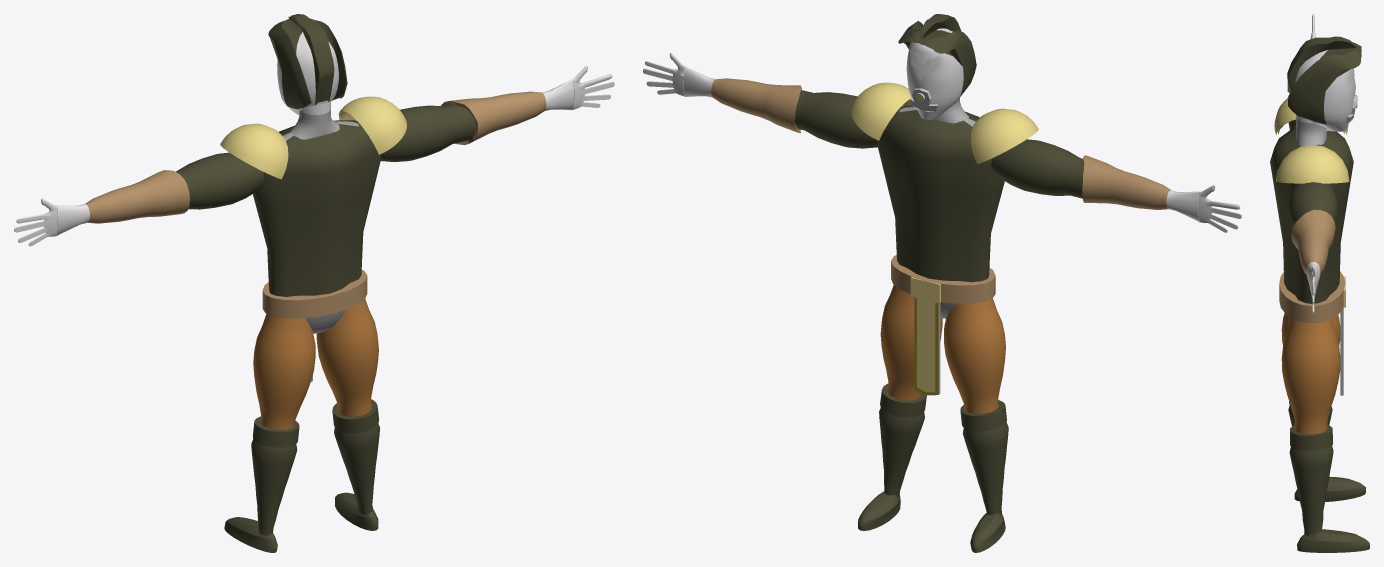
The model's file is kain_test.fbx.
3 renders of one model, left to right at view 1: azimuth 30°, elevation 25°; view 2: azimuth 150°, elevation 25°; view 3: azimuth 270°, elevation 25°, orthographic. The views are drawn at different scales.
Parts seen in each view (by area): view 1: polySurface16, polySurface13, pCylinder6, pCylinder7, polySurface17, polySurface18, pCylinder15, polySurface3, polySurface2; view 2: polySurface16, polySurface13, pCylinder6, polySurface17, polySurface18, pCylinder7, pCube5, polySurface3, polySurface2, pCylinder15; view 3: polySurface16, polySurface13, pCylinder7, polySurface18, polySurface2, pCylinder15, polySurface17, polySurface3, pCube5, pCylinder6.
Boxes of the visible parts, <box> form: polySurface16: <box>14,65,614,333</box>; polySurface13: <box>268,14,347,139</box>; pCylinder6: <box>253,314,315,429</box>; pCylinder7: <box>316,299,378,416</box>; polySurface17: <box>224,416,299,552</box>; polySurface18: <box>332,399,379,530</box>; pCylinder15: <box>262,270,367,318</box>; polySurface3: <box>220,123,288,179</box>; polySurface2: <box>338,96,406,154</box>; polySurface16: <box>643,52,1241,318</box>; polySurface13: <box>898,14,976,123</box>; pCylinder6: <box>944,298,1005,413</box>; polySurface17: <box>960,400,1008,552</box>; polySurface18: <box>858,383,926,530</box>; pCylinder7: <box>880,285,942,400</box>; pCube5: <box>914,297,940,395</box>; polySurface3: <box>971,108,1038,164</box>; polySurface2: <box>851,82,912,140</box>; pCylinder15: <box>891,255,995,303</box>; polySurface16: <box>1270,14,1353,315</box>; polySurface13: <box>1287,36,1361,146</box>; pCylinder7: <box>1281,317,1340,434</box>; polySurface18: <box>1289,425,1369,552</box>; polySurface2: <box>1275,144,1349,183</box>; pCylinder15: <box>1279,271,1345,323</box>; polySurface17: <box>1288,401,1365,501</box>; polySurface3: <box>1274,97,1348,134</box>; pCube5: <box>1340,308,1343,395</box>; pCylinder6: <box>1281,313,1340,345</box>.
Bounding box in the file's own units: 85.07 × 69.53 × 12.92.
